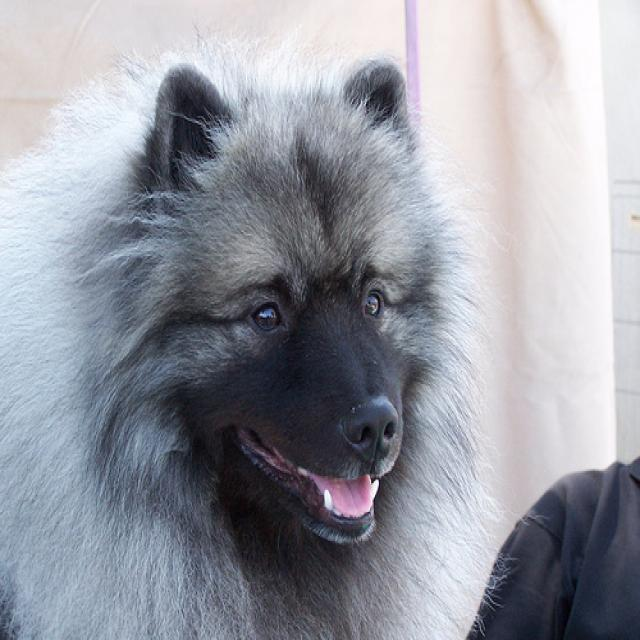dog-keeshond: (1, 36, 493, 637)
